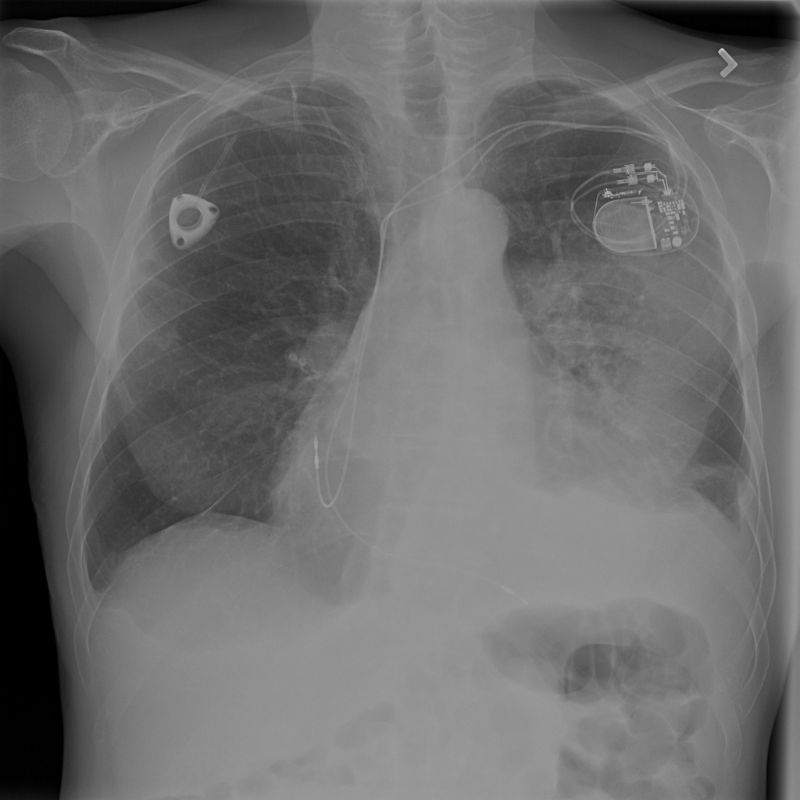PLEURAL EFFUSION: (647, 468, 763, 610)
